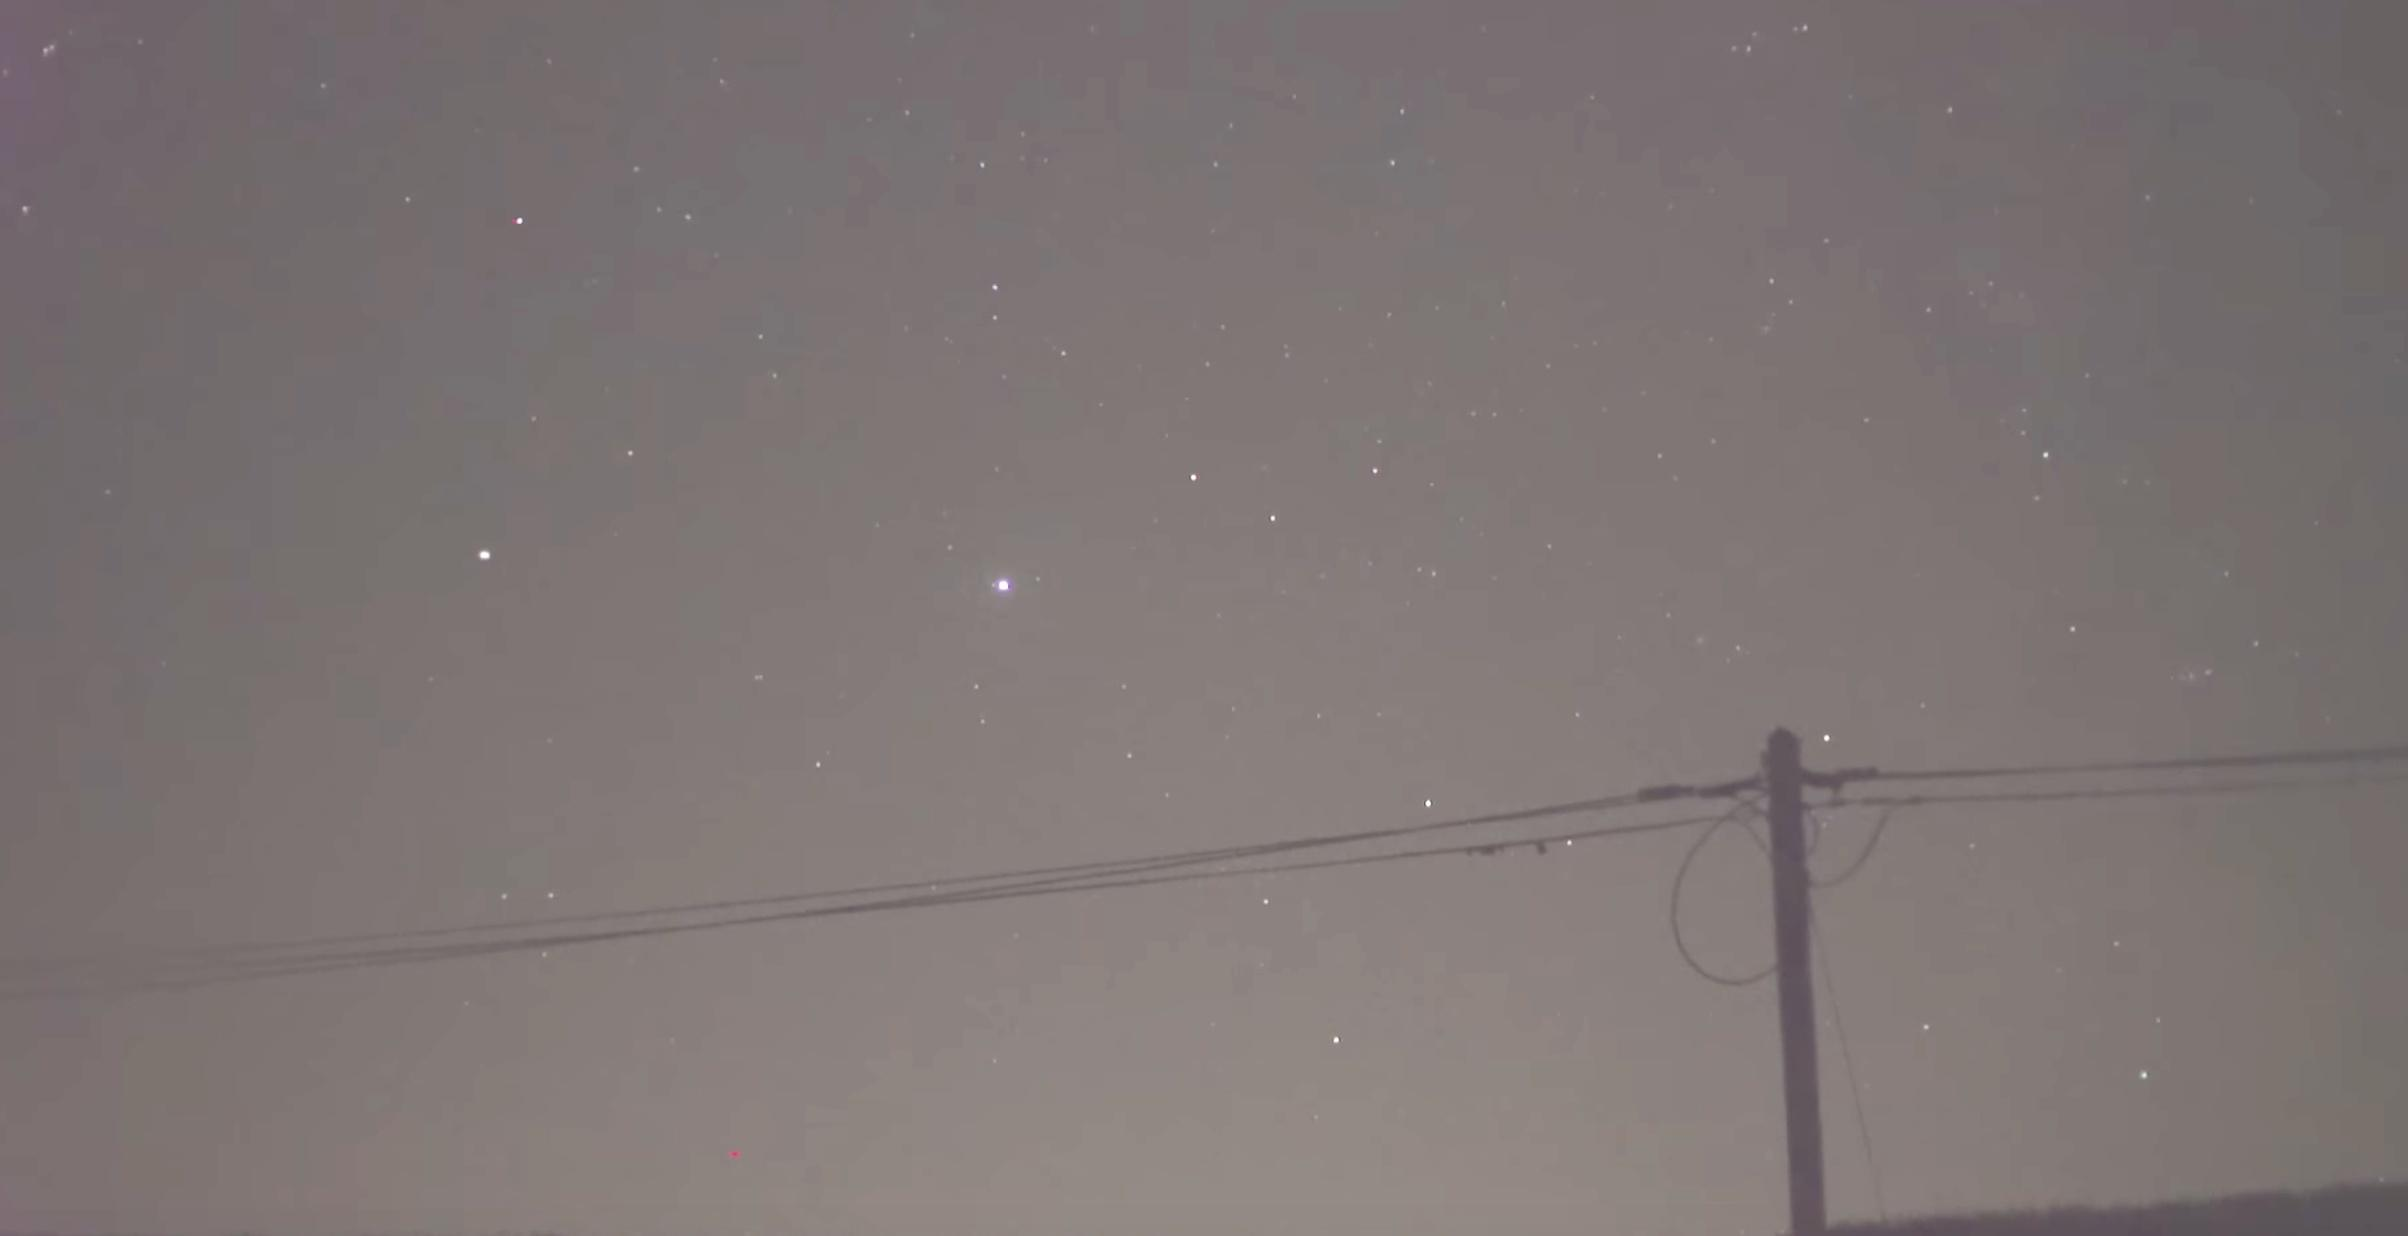Plane: (503, 199, 548, 244)
